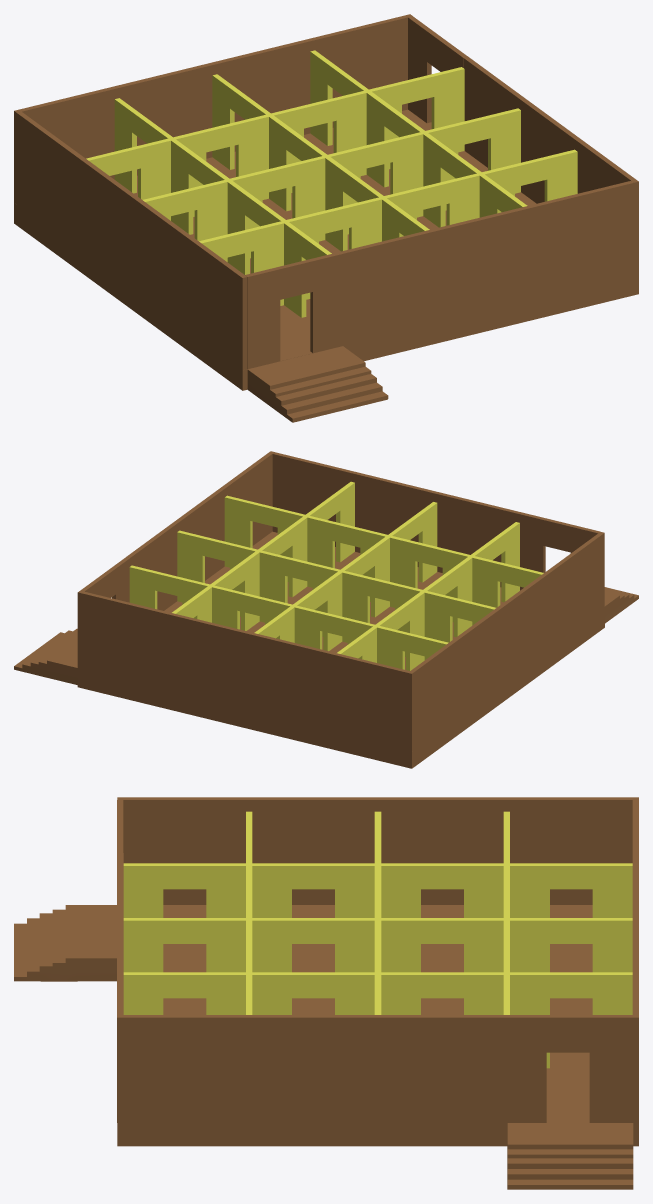
Rendered from TestPlane.fbx.
3 views of the same model, one above another, from view 1: azimuth 30°, elevation 25°; view 2: azimuth 150°, elevation 25°; view 3: azimuth 270°, elevation 25° (orthographic). The views are drawn at different scales.
Visible parts, largest first — view 1: Wall.003, Wall.001, Wall, Plane, Wall.002, Passage.001, Ladder, Cube.018, Cube.021, Cube.019, Cube.022, Cube.023 (+20 smaller); view 2: Wall, Wall.001, Plane, Wall.003, Wall.002, Passage.001, Cube.013, Cube.018, Cube.014, Cube.017, Cube.015, Cube.019 (+21 smaller); view 3: Wall.002, Wall.001, Plane, Passage, Ladder.001, Ladder, Cube.004, Cube.001, Cube.002, Cube.003, Cube.005, Cube.008 (+8 smaller).
Part boxes in pixels (x1,y1,x2,y2): Wall.003: (340, 181, 633, 345); Wall.001: (16, 111, 247, 370); Wall: (14, 14, 412, 204); Plane: (14, 109, 638, 390); Wall.002: (463, 56, 638, 274); Passage.001: (245, 252, 342, 368); Ladder: (247, 346, 388, 422); Cube.018: (325, 132, 423, 234); Cube.021: (366, 67, 464, 169); Cube.019: (227, 156, 325, 258); Cube.022: (269, 91, 366, 192); Cube.023: (171, 114, 268, 216); Wall: (77, 590, 414, 751); Wall.001: (410, 532, 604, 749); Plane: (77, 531, 604, 768); Wall.003: (272, 452, 519, 587); Wall.002: (127, 451, 274, 610); Passage.001: (518, 512, 600, 590); Cube.013: (224, 495, 307, 581); Cube.018: (259, 550, 341, 636); Cube.014: (307, 516, 389, 601); Cube.017: (177, 530, 259, 616); Cube.015: (390, 536, 472, 622); Cube.019: (342, 571, 424, 656); Wall.002: (117, 1015, 506, 1122); Wall.001: (117, 797, 632, 904); Plane: (117, 905, 638, 1146); Passage: (507, 1015, 632, 1122); Ladder.001: (507, 1123, 633, 1189); Ladder: (14, 905, 116, 981); Cube.004: (123, 863, 249, 917); Cube.001: (507, 863, 632, 917); Cube.002: (378, 863, 506, 917); Cube.003: (249, 863, 377, 917); Cube.005: (507, 918, 632, 972); Cube.008: (123, 918, 249, 972).
Bounding box in the file's own units: 4848 × 1100 × 4850.
